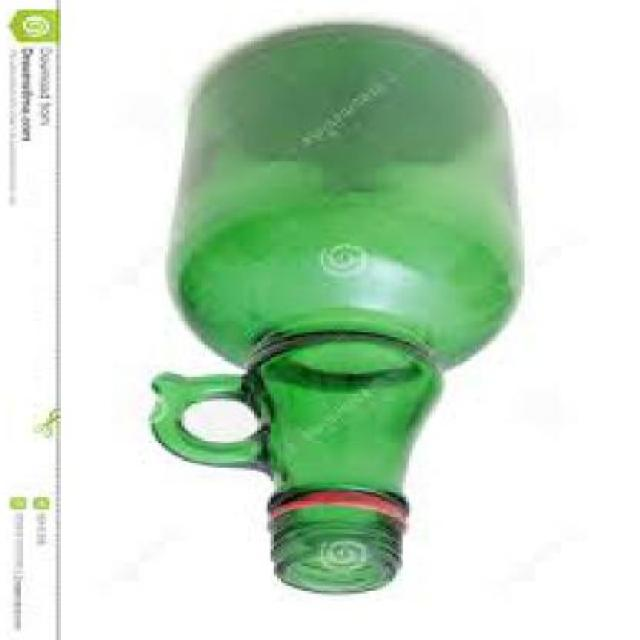glass: (155, 28, 528, 598)
